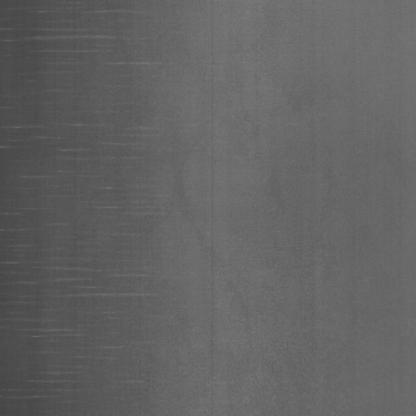waist_folding: (10, 31, 173, 416)
